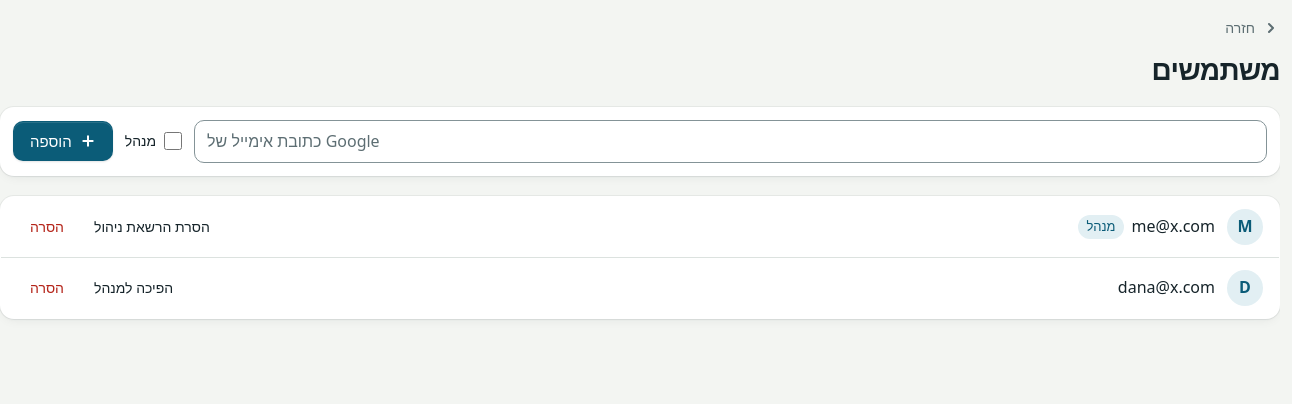
UsersScreen › asks to confirm before removing, and shows last_admin inline
The width and height of the screenshot is (1292, 404).
Expected: the text "dana@x.com" is shown, [1118,275,1215,300]
What coordinates should you click on to do the following:
click the button "הסרה" in the row of "dana@x.com"
I would click on:
 (47, 288)
Its box is [17,272,77,304].
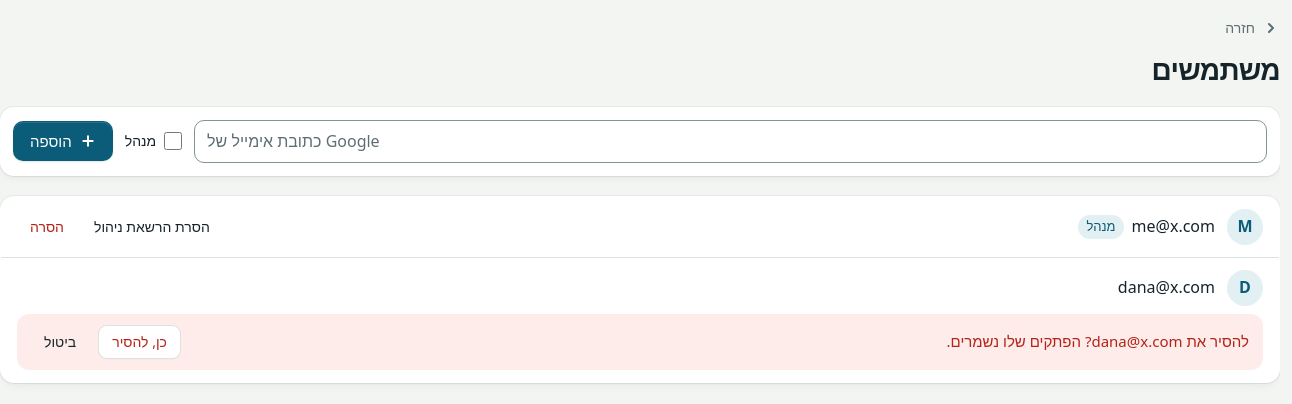
What coordinates should you click on to do the following:
click the button "כן, להסיר"
I would click on:
 (140, 342)
Its box is [99,326,180,358].
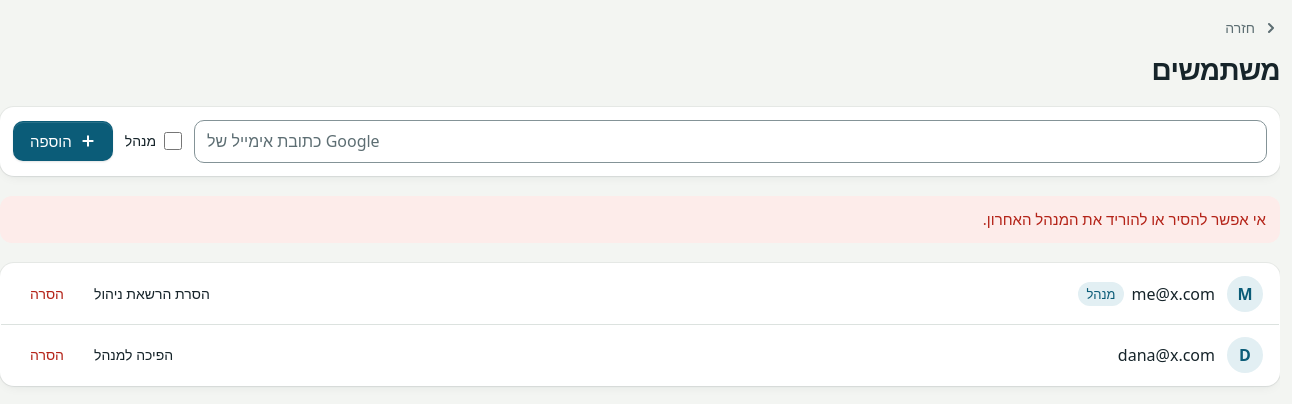
Expected: the message reads "אי אפשר להסיר או להוריד את המנהל האחרון.", [983,209,1266,229]
